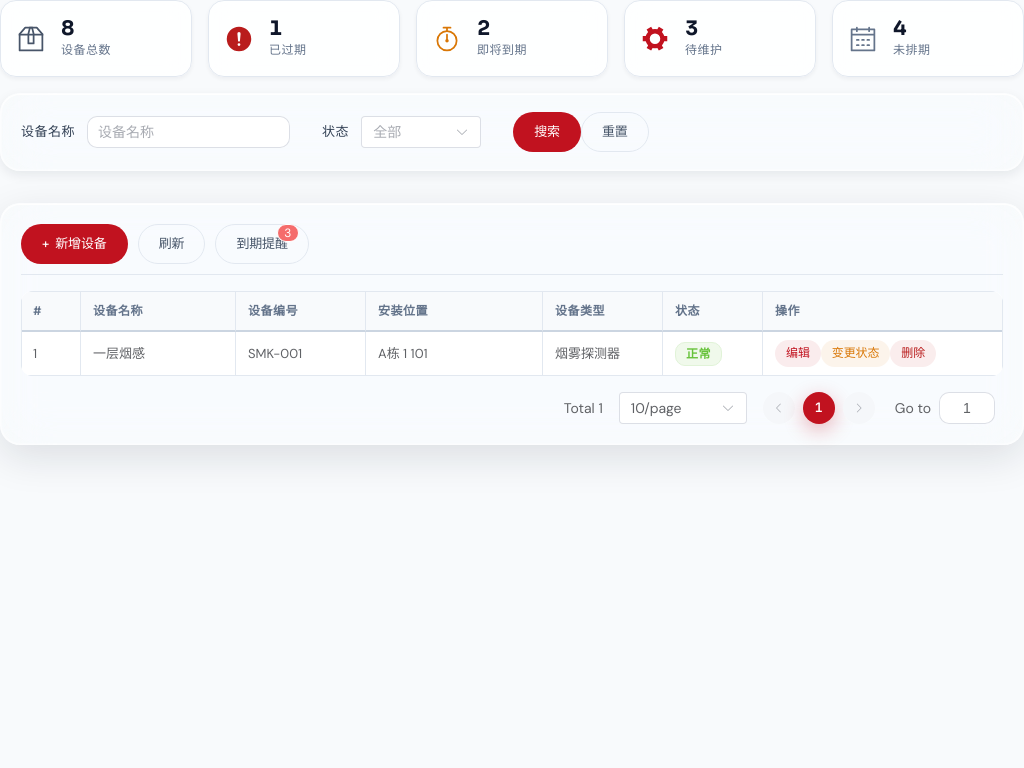
Scenario: DeviceView 编辑 › 编辑回填：本地日期口径（同一时刻若按 UTC 取日期会退一天）
What coordinates should you click on to do the following:
click the button "编辑"
I would click on:
 (798, 354)
Its box is [775, 340, 821, 367].
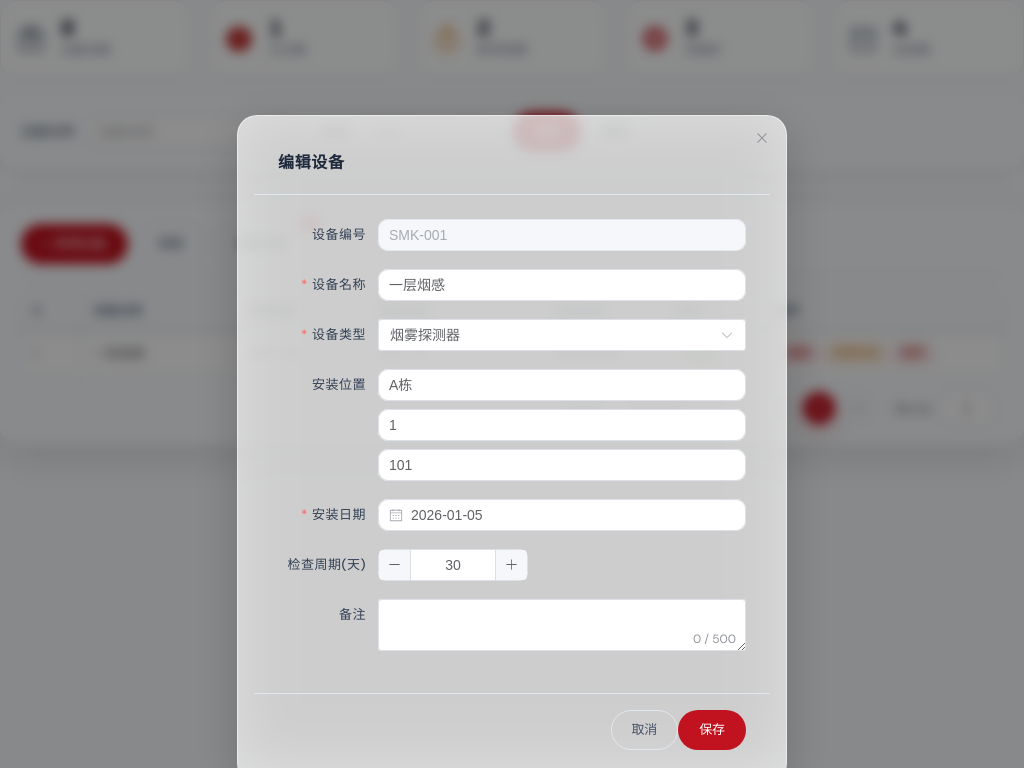
Now the dropdown with placeholder "安装日期" holds "2026-01-05", box [411, 500, 735, 530]
